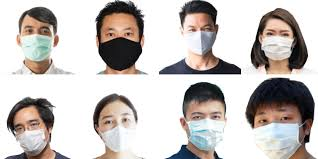mask: (252, 123, 301, 159), (98, 37, 141, 71), (187, 119, 225, 150), (101, 125, 136, 152), (21, 34, 53, 62), (15, 129, 47, 155), (183, 31, 216, 55), (261, 36, 293, 60)
